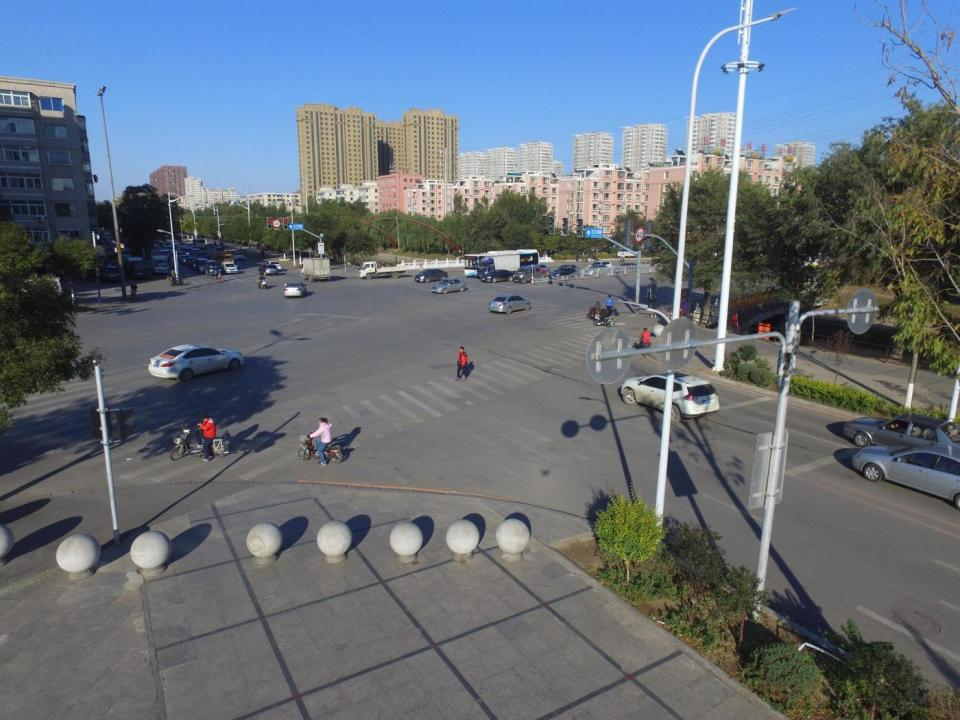bus: (462, 248, 540, 278), (204, 243, 226, 258), (191, 238, 207, 251)
car: (853, 441, 960, 511), (618, 366, 722, 421), (843, 411, 959, 457), (149, 342, 246, 382), (490, 293, 530, 317), (430, 278, 468, 294), (282, 280, 310, 300), (414, 268, 449, 283), (548, 266, 580, 282), (552, 263, 582, 280), (480, 270, 517, 283), (98, 262, 122, 282), (614, 260, 640, 276), (123, 256, 146, 274), (587, 261, 614, 275), (527, 263, 553, 276), (256, 262, 278, 276), (584, 265, 611, 275), (263, 258, 282, 271), (221, 262, 240, 274), (119, 248, 131, 261), (186, 257, 200, 268), (232, 250, 245, 261), (196, 252, 213, 260), (190, 258, 202, 269), (212, 247, 226, 256), (180, 254, 194, 263), (176, 250, 186, 261), (104, 246, 115, 256), (185, 248, 198, 256), (192, 249, 202, 258), (193, 246, 202, 256)
truck: (476, 254, 522, 278), (299, 255, 333, 284), (357, 261, 410, 279), (149, 253, 170, 274), (212, 252, 236, 270)
van: (512, 266, 545, 285), (125, 260, 154, 278), (205, 260, 226, 278), (196, 258, 213, 273)
